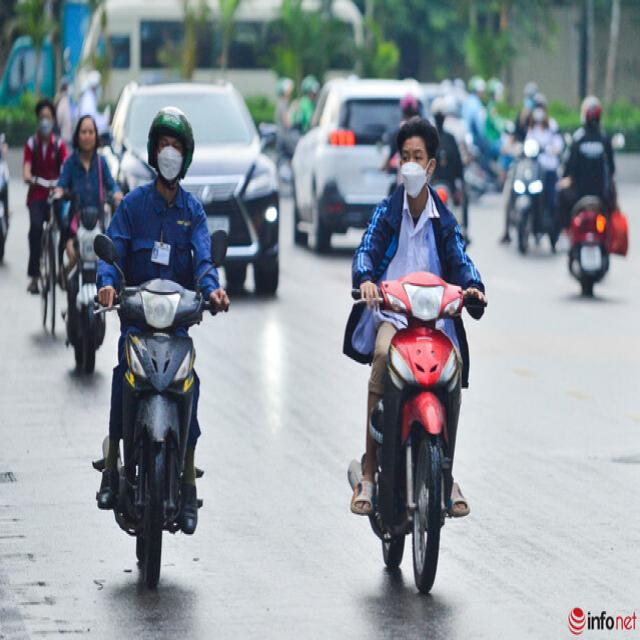no_helmet: (392, 107, 445, 206)
